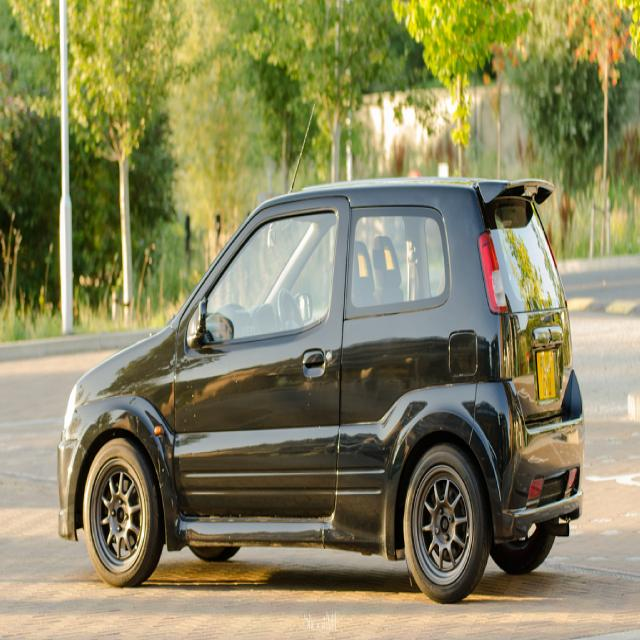car: (47, 172, 584, 607)
